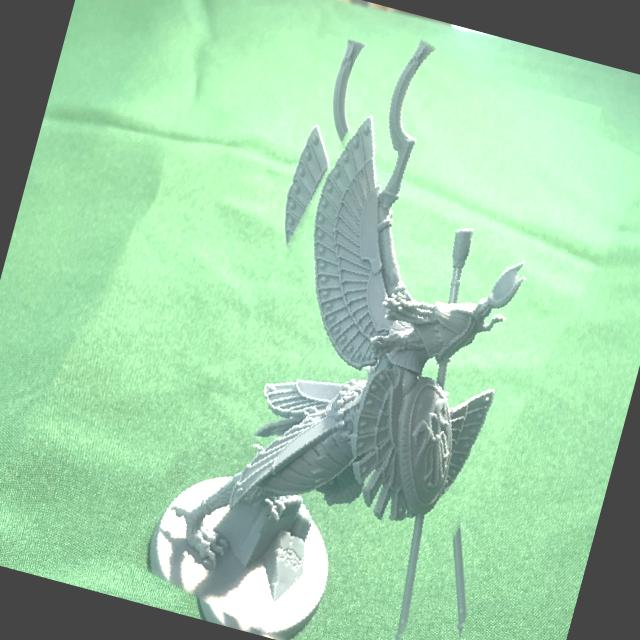isis: (140, 13, 634, 640)
